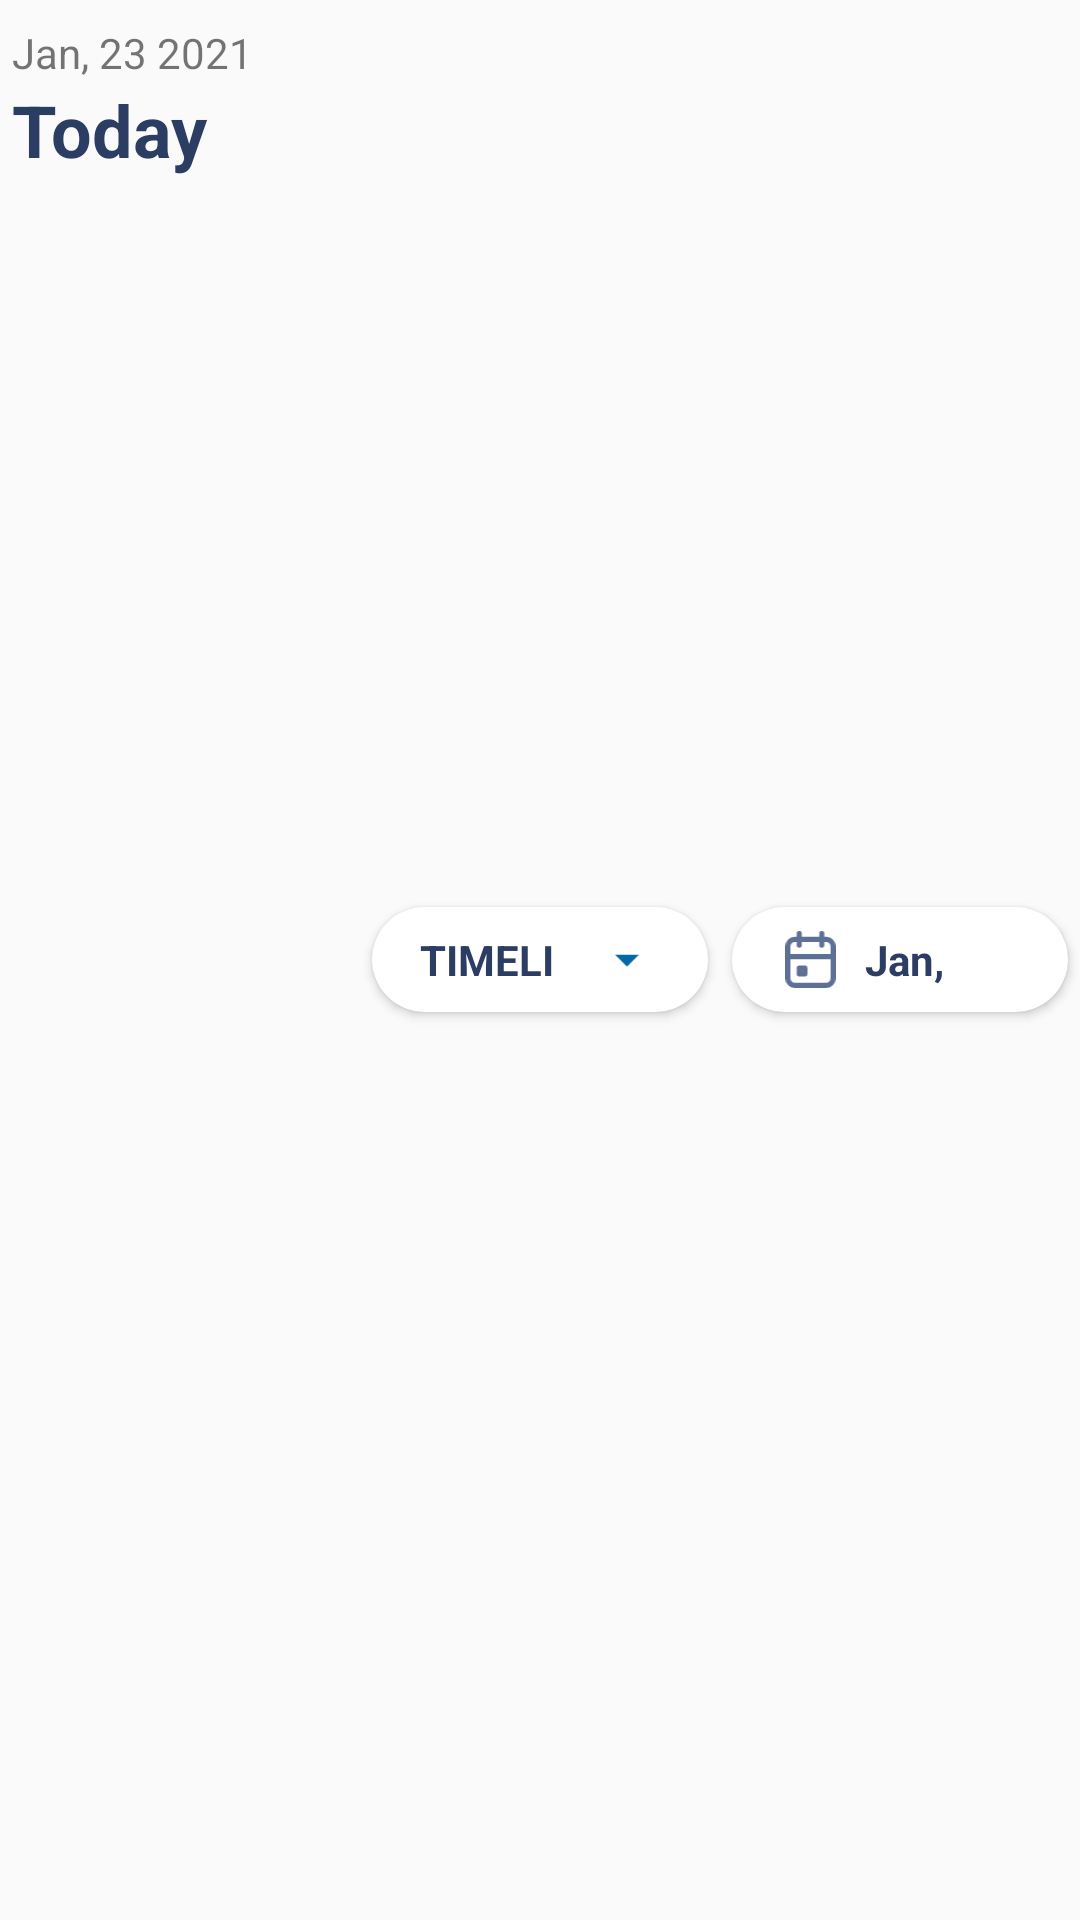

Point at icon controls on the screen. Image size 1080*1920, points as [x,y].
arrow drop down: [627,960]
